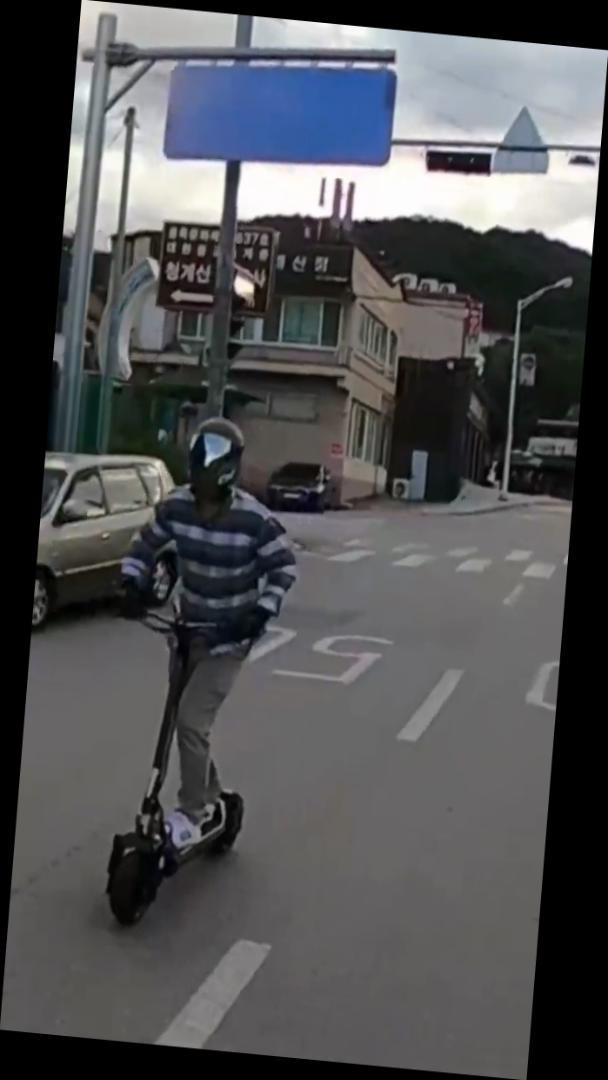helmet: (88, 407, 312, 941)
